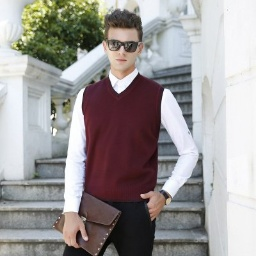face: (101, 10, 144, 72)
